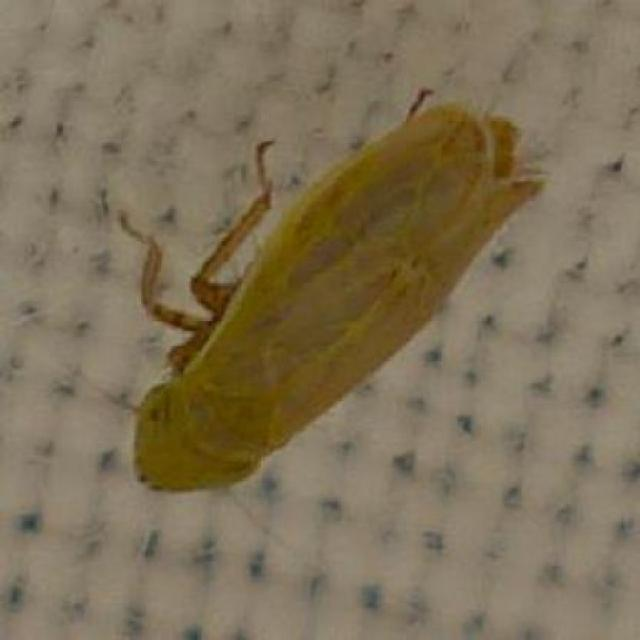green-leafhopper: (125, 86, 537, 500)
